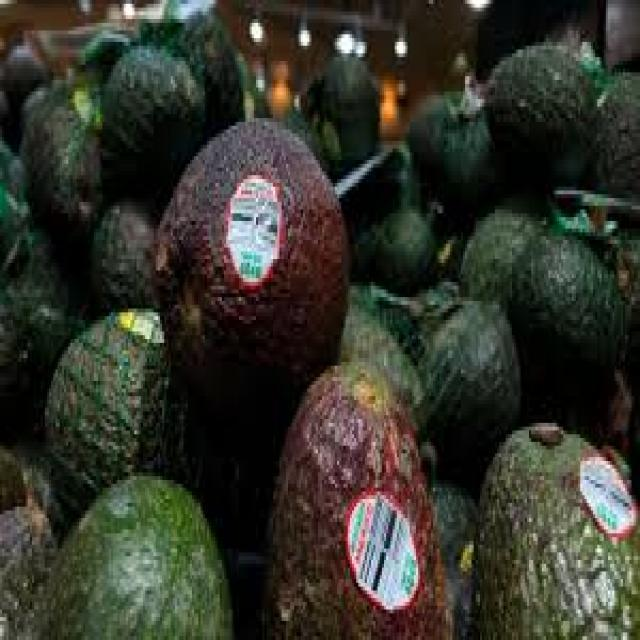Wet: (368, 2, 640, 452), (250, 364, 456, 636), (156, 115, 334, 366), (471, 424, 640, 640), (74, 462, 224, 640)
